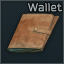Simple wallet: (0, 0, 64, 64)
